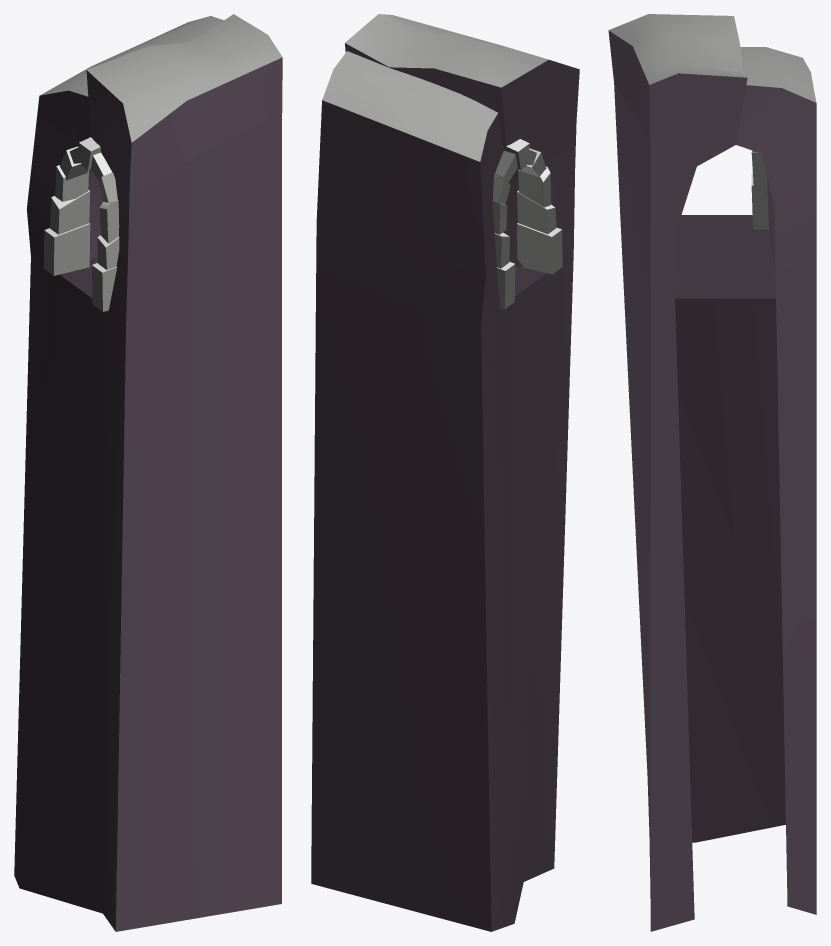
File: env01_cliff_right_door.FBX
3 renders of one model, left to right at view 1: azimuth 30°, elevation 25°; view 2: azimuth 150°, elevation 25°; view 3: azimuth 270°, elevation 25°, orthographic. The views are drawn at different scales.
Parts seen in each view (by area): view 1: env01_cliff_right_door; view 2: env01_cliff_right_door; view 3: env01_cliff_right_door.
Boxes of the visible parts, bbox=[...] form: env01_cliff_right_door: bbox=[14, 14, 282, 931]; env01_cliff_right_door: bbox=[311, 14, 579, 931]; env01_cliff_right_door: bbox=[608, 14, 816, 931].
Bounding box in the file's own units: 235 × 991 × 218.
